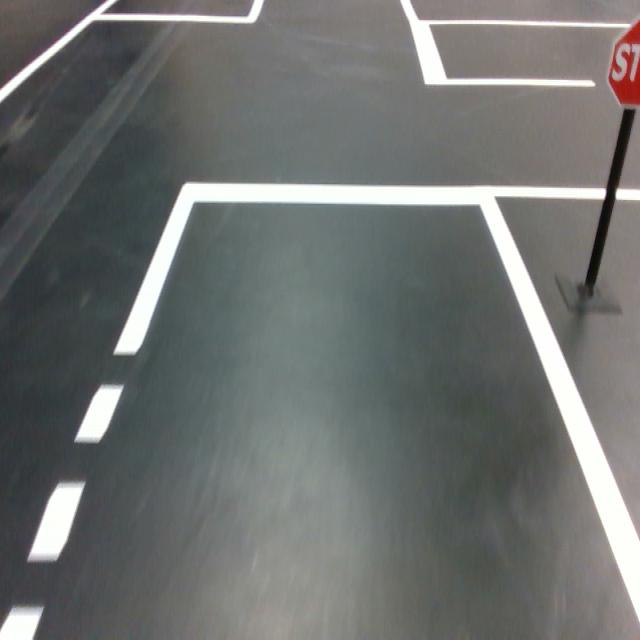stop-sign: (604, 12, 640, 109)
